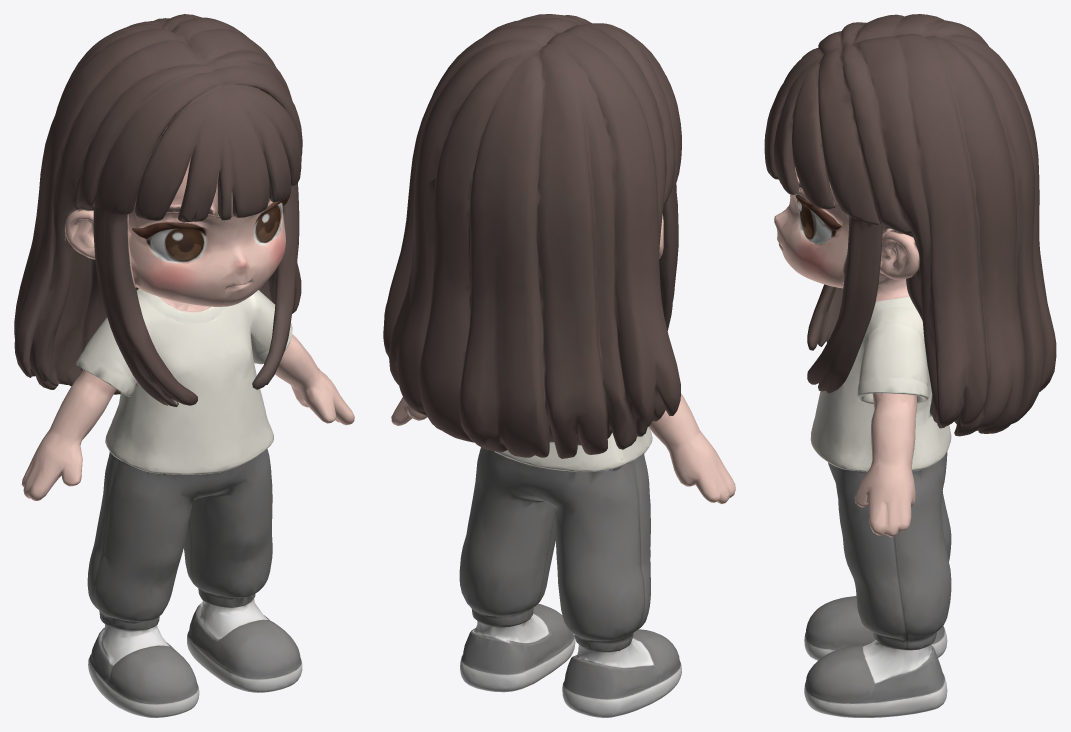
The model's file is hero_toy_b_tripo_mv30k_0cbeb136_facez.glb.
3 views of the same model, side by side, from view 1: azimuth 30°, elevation 25°; view 2: azimuth 150°, elevation 25°; view 3: azimuth 270°, elevation 25° (orthographic). The views are drawn at different scales.
Parts seen in each view (by area): view 1: tripo_node_7a0d1254-5da2-4c5e-a425-0eb4ba6c682e; view 2: tripo_node_7a0d1254-5da2-4c5e-a425-0eb4ba6c682e; view 3: tripo_node_7a0d1254-5da2-4c5e-a425-0eb4ba6c682e.
Part boxes in pixels (x1,y1,x2,y2): tripo_node_7a0d1254-5da2-4c5e-a425-0eb4ba6c682e: (14, 14, 354, 717); tripo_node_7a0d1254-5da2-4c5e-a425-0eb4ba6c682e: (383, 14, 735, 717); tripo_node_7a0d1254-5da2-4c5e-a425-0eb4ba6c682e: (764, 14, 1056, 717).
Bounding box in the file's own units: 0.5191 × 0.9797 × 0.4003.
Materials: 1 (1 with a texture image).
